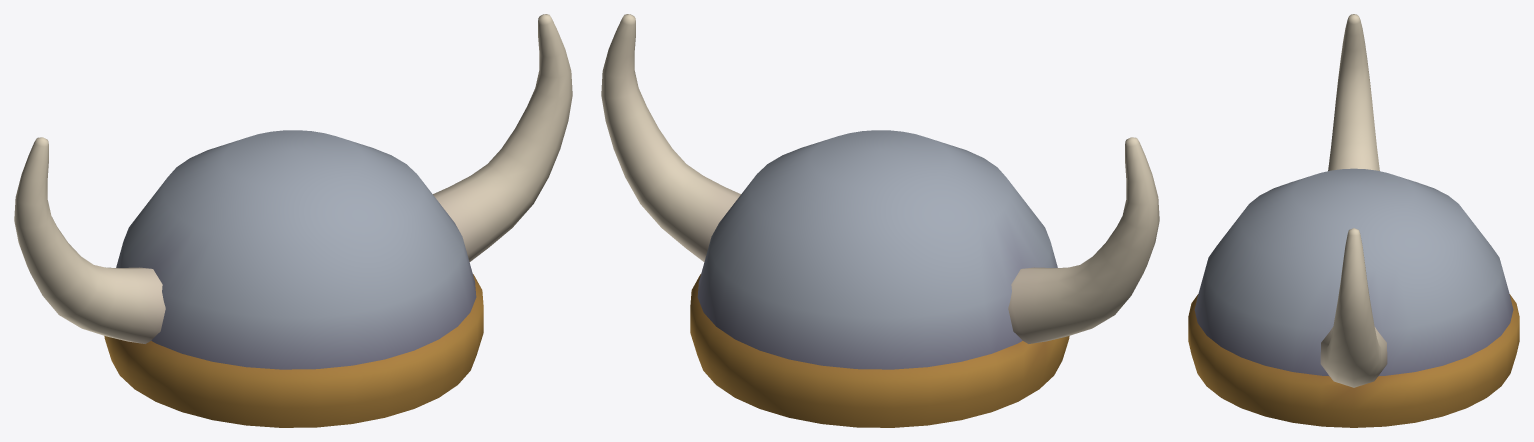
The model's file is hat_viking.glb.
The picture shows the model from 3 angles, left to right: view 1: azimuth 30°, elevation 25°; view 2: azimuth 150°, elevation 25°; view 3: azimuth 270°, elevation 25°; orthographic projection. The views are drawn at different scales.
Parts seen in each view (by area): view 1: hat; view 2: hat; view 3: hat.
Boxes of the visible parts, x1,y1,x2,y2 form: hat: [14, 14, 572, 427]; hat: [601, 14, 1159, 427]; hat: [1188, 14, 1519, 427].
Bounding box in the file's own units: 0.6374 × 0.302 × 0.38.
